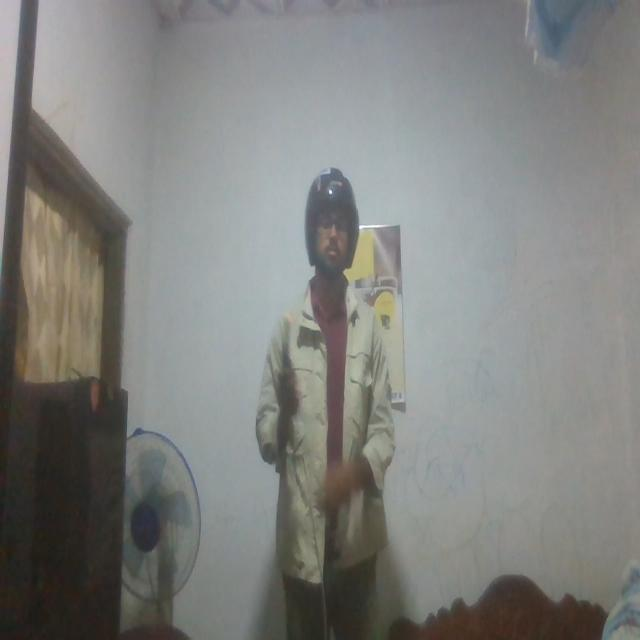Gun_Holder: (276, 312, 304, 418)
Helmet_Wearer: (299, 167, 362, 290)
Jacket_Wearer: (253, 286, 407, 585)
Person: (251, 167, 401, 621)
